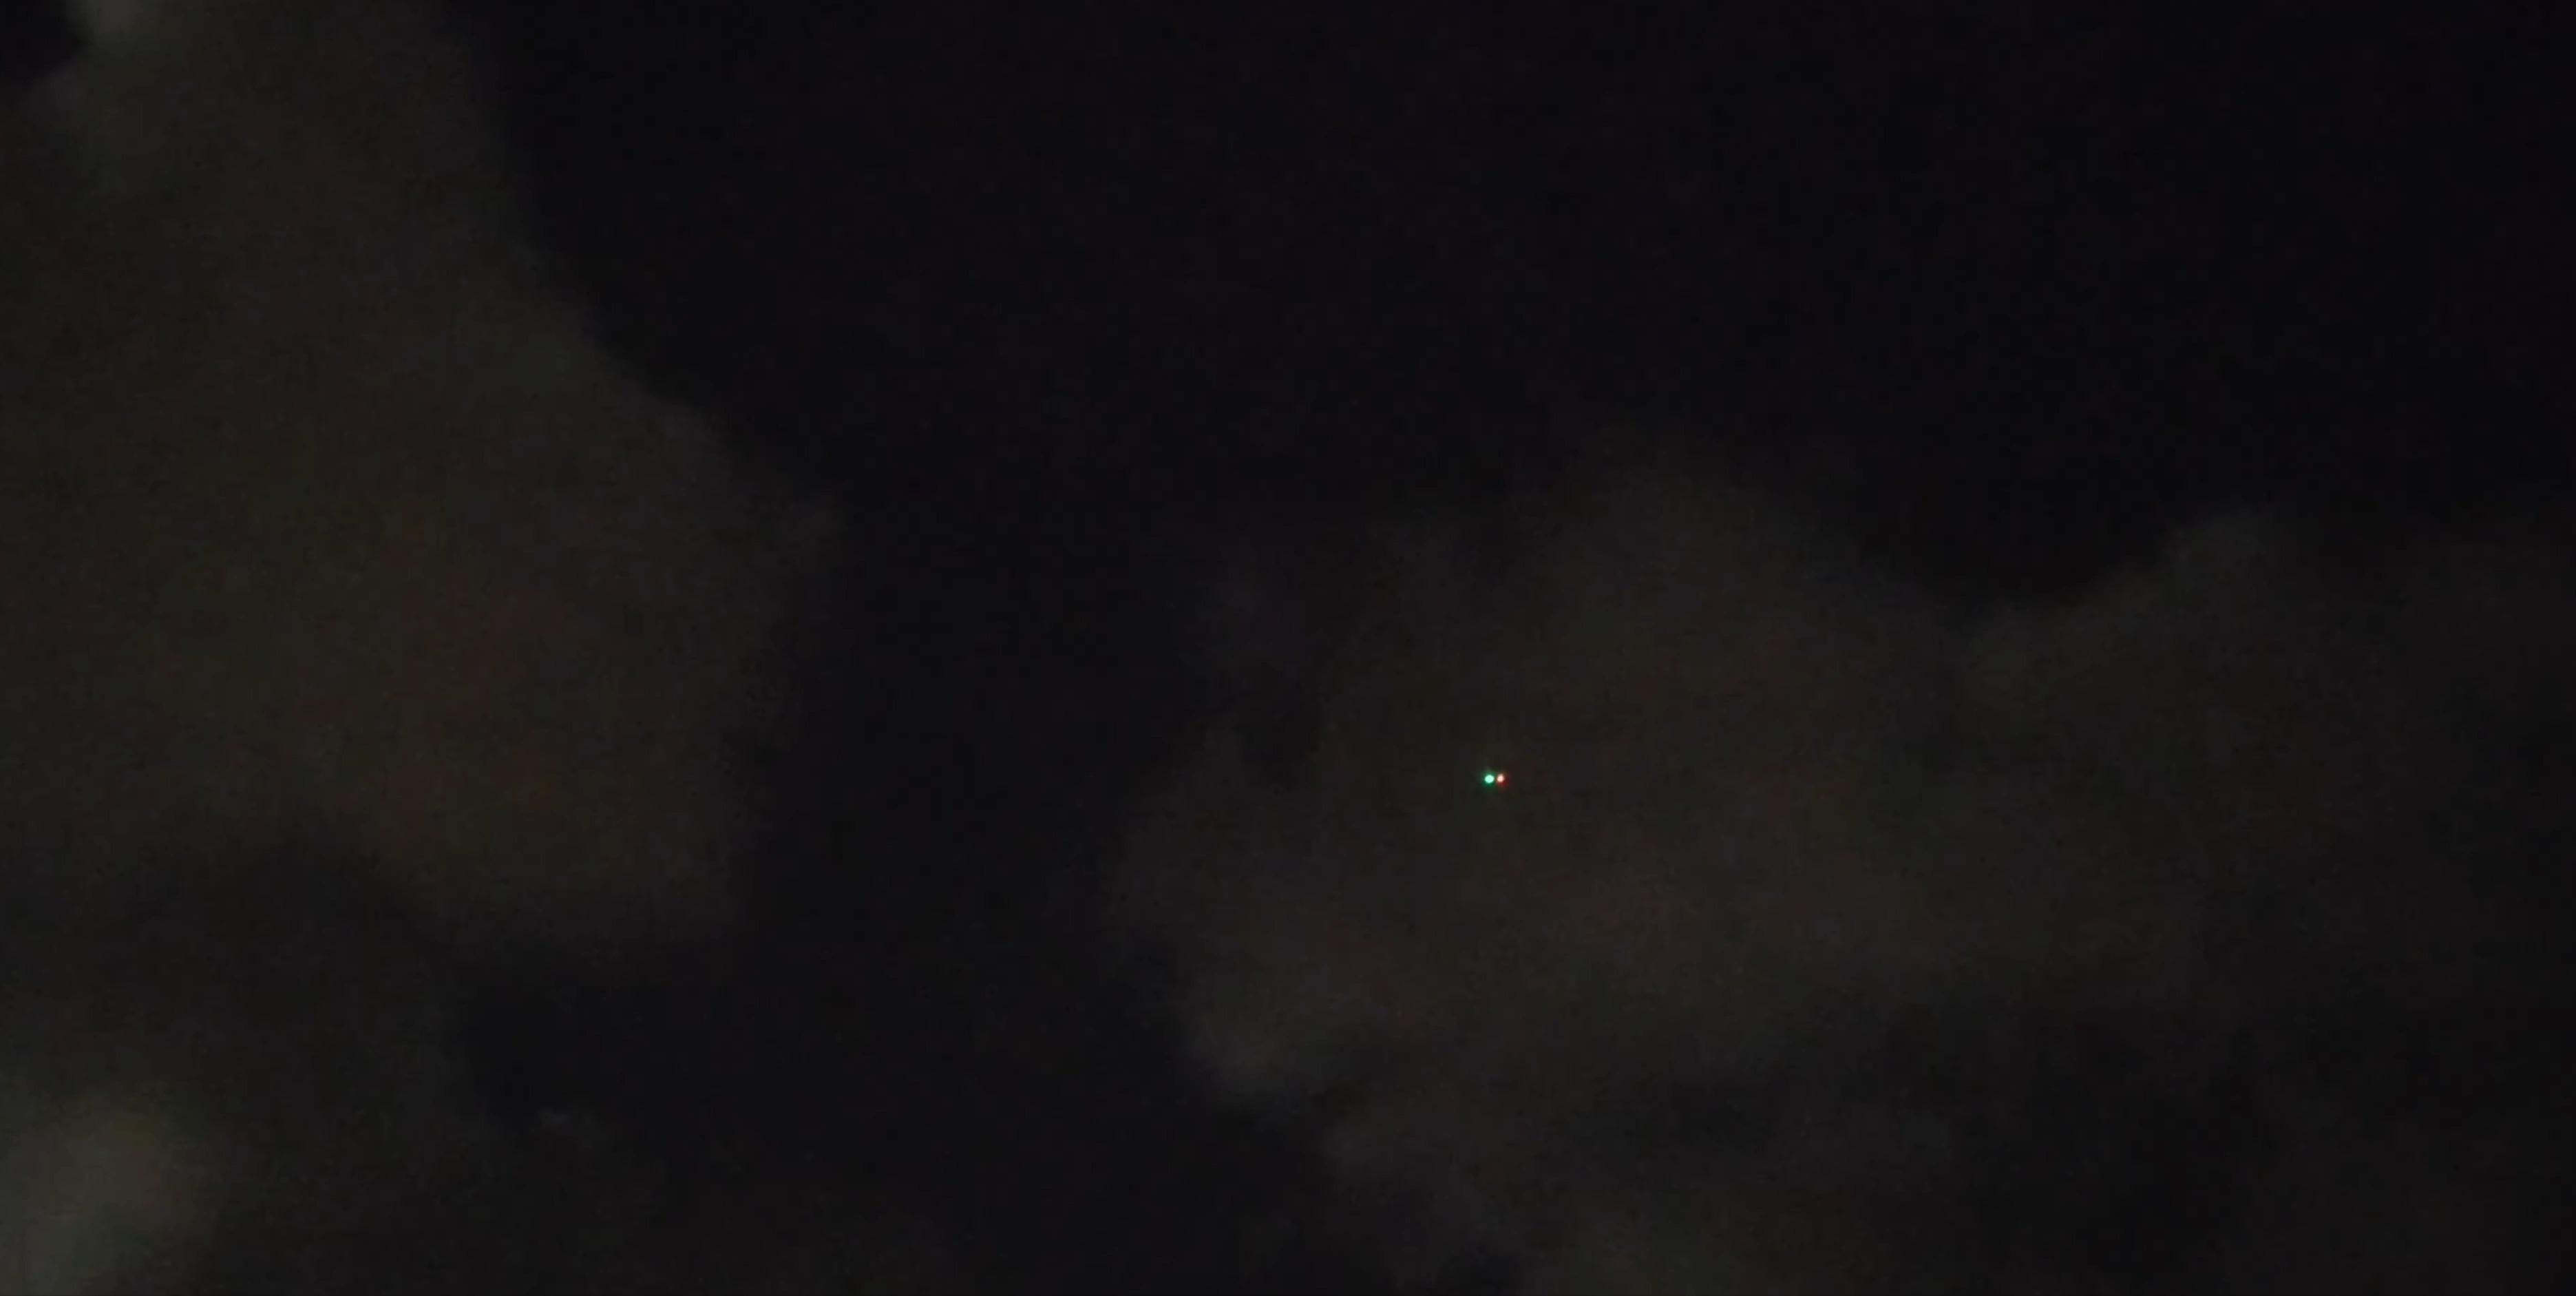Plane: (1476, 759, 1514, 802)
